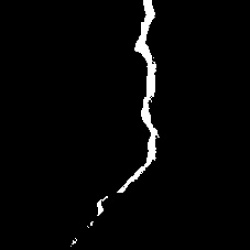crack: (117, 2, 158, 194), (98, 194, 109, 215), (72, 238, 79, 246), (89, 221, 93, 227)
